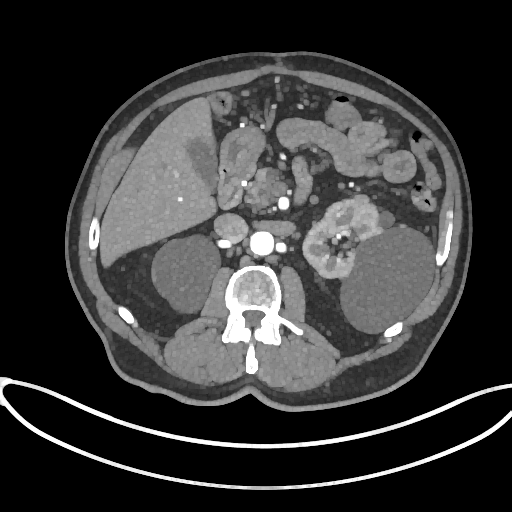Lesion: (353, 191, 371, 206)
